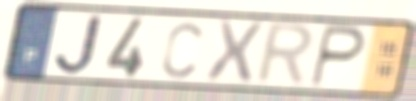4: (104, 14, 149, 80)
C: (159, 19, 205, 80)
J: (51, 13, 106, 77)
P: (307, 22, 368, 90)
R: (251, 21, 317, 89)
X: (202, 17, 267, 84)
